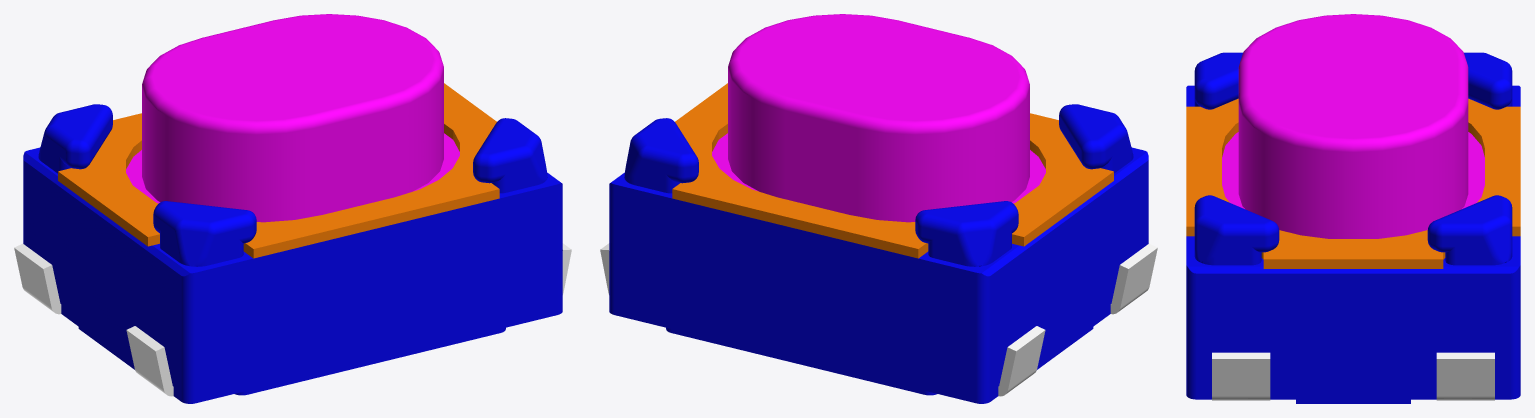
File: YTS-A016-X-SKRPABE010--a22be2ec250f.glb
3 renders of one model, left to right at view 1: azimuth 30°, elevation 25°; view 2: azimuth 150°, elevation 25°; view 3: azimuth 270°, elevation 25°, orthographic.
Parts seen in each view (by area): view 1: material0, material3, material1, material2; view 2: material0, material3, material1, material2; view 3: material0, material3, material1, material2.
Boxes of the visible parts, box(x1,y1,x2,y2) form: material0: box(23, 104, 562, 403); material3: box(126, 14, 459, 222); material1: box(58, 83, 499, 258); material2: box(14, 243, 571, 396); material0: box(609, 104, 1148, 403); material3: box(712, 14, 1045, 222); material1: box(672, 83, 1113, 258); material2: box(600, 243, 1157, 396); material0: box(1186, 52, 1520, 403); material3: box(1222, 14, 1484, 238); material1: box(1186, 98, 1520, 268); material2: box(1212, 352, 1494, 400).
Size of the model in its own units: 4.6 by 2.5 by 3.2.
